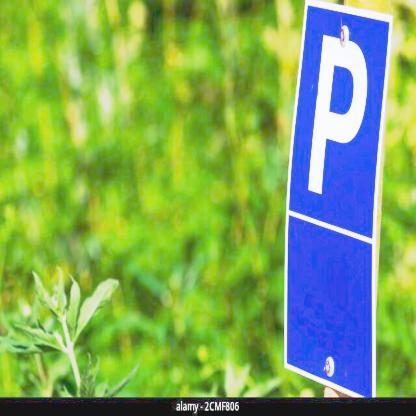Parking: (302, 4, 386, 224)
